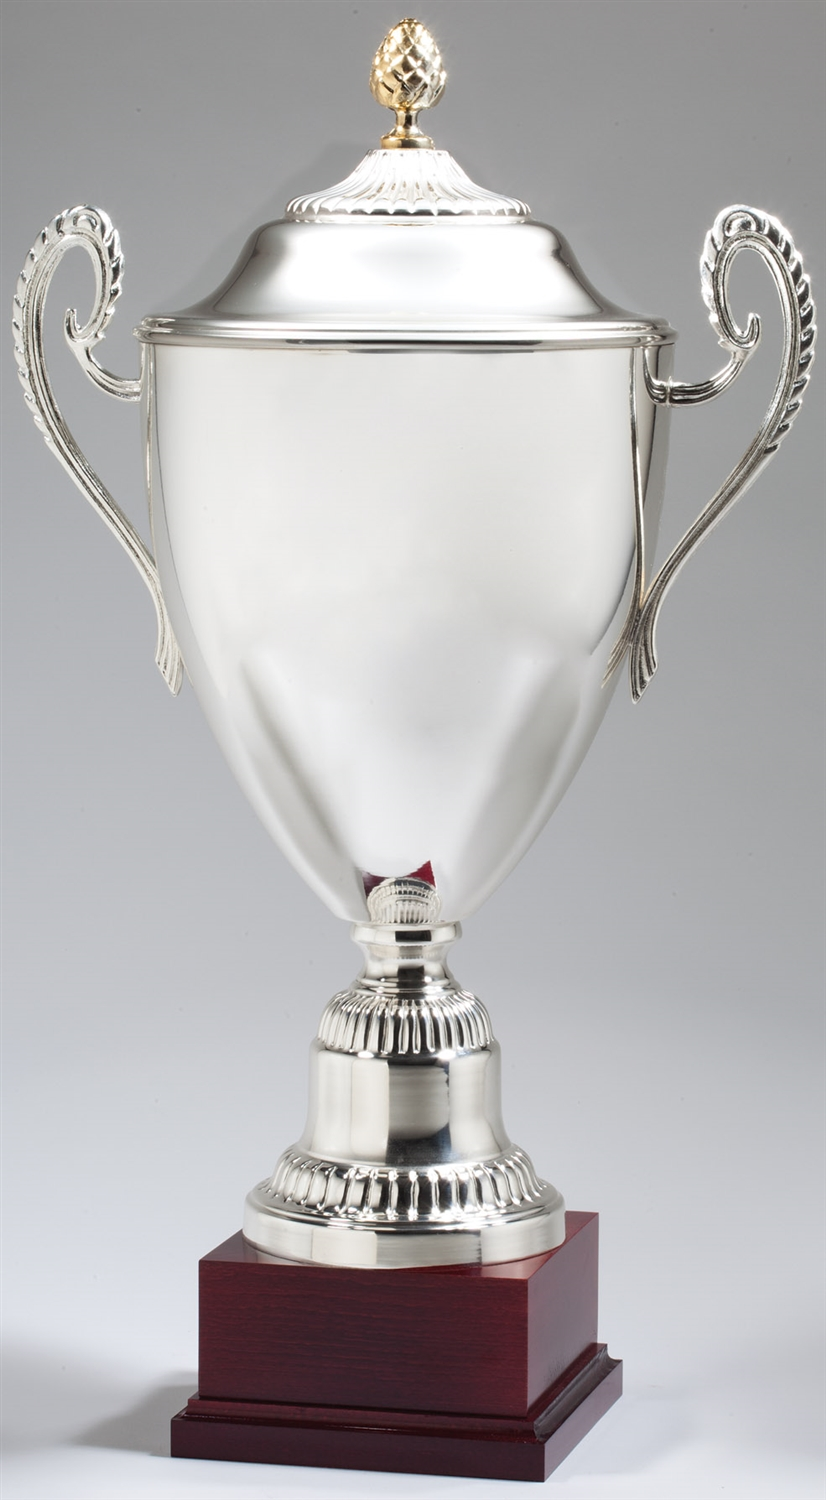trophy: (11, 9, 816, 1487)
